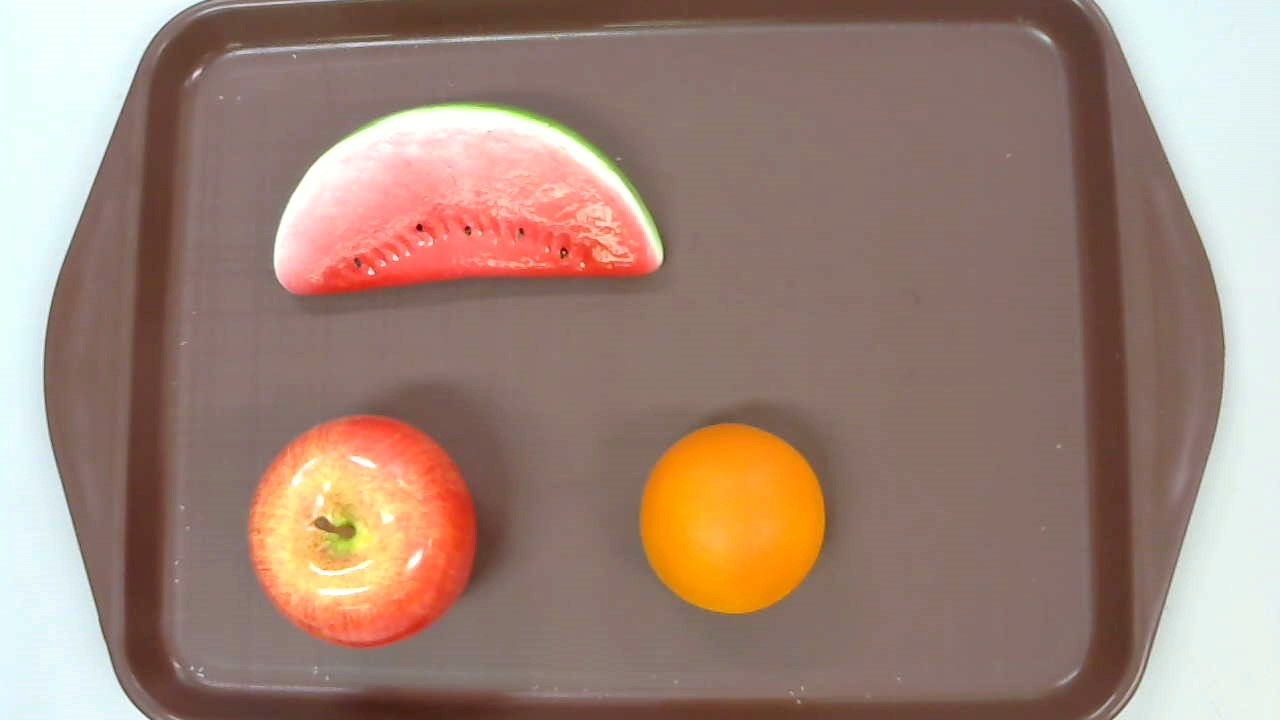bun: (639, 424, 826, 614)
red apple: (247, 414, 478, 647)
water melon: (271, 101, 665, 297)
